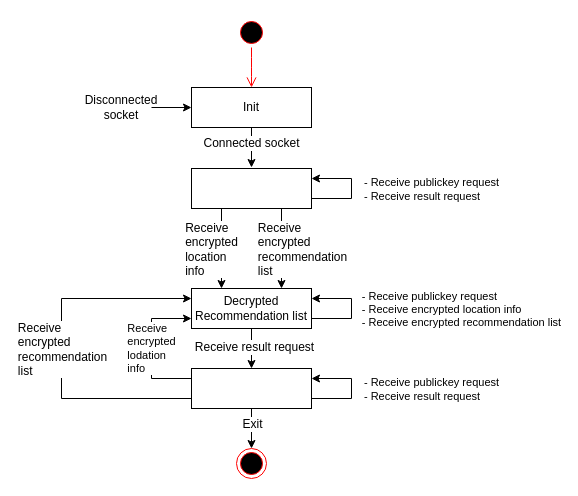
The diagram is 578 pixels wide and 496 high, and some of its shapes have lost their labels. The shapes that lost their labels are listed below. From the top down, each one's box as (x1, y1, x2, y2) in pixels, then its label:
(190, 168, 312, 208): Connected
(190, 368, 312, 408): Computed
